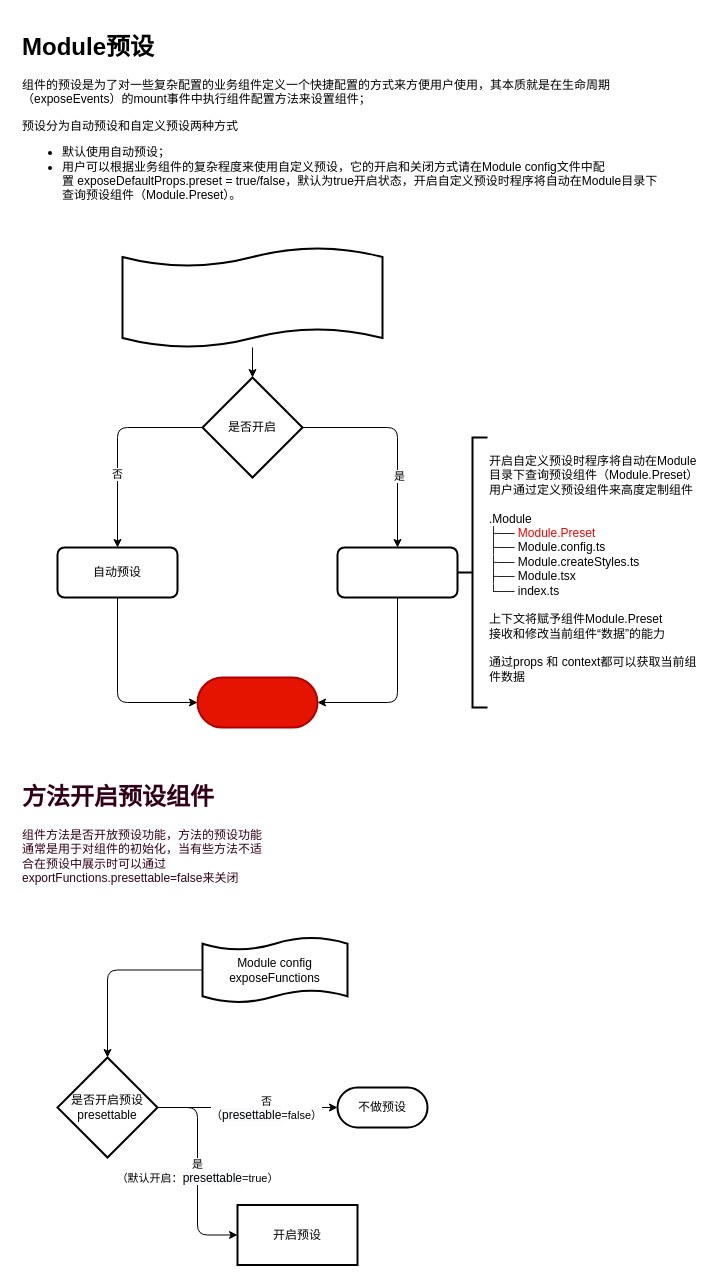
This 724x1283 diagram has some shape labels left out. Each missing label, with the centre of its shape:
是否开启自定义预设 Module config exposeDefaultProps.preset （默认不开启）: (252,297)
自定义预设: (397,572)
预设: (257,702)
